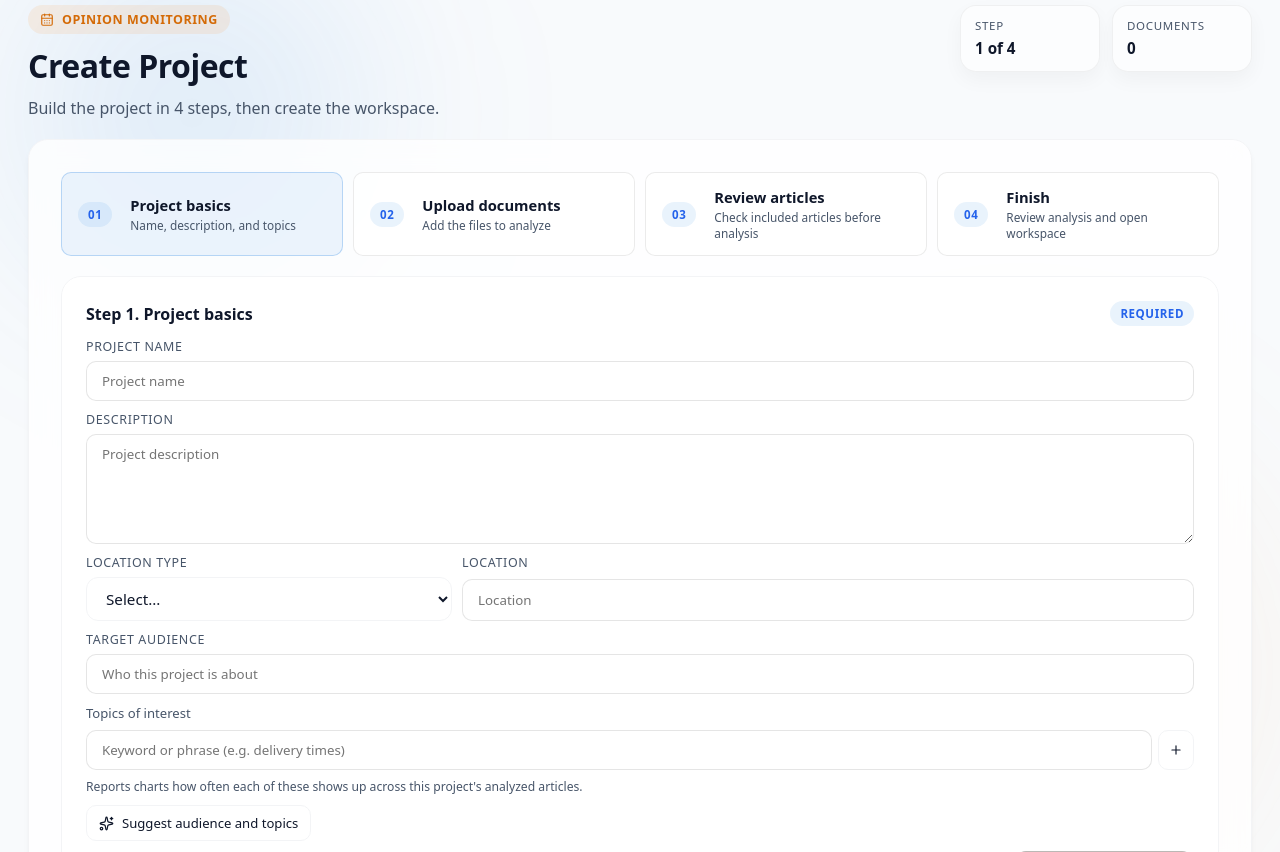
it: ProjectsPage create wizard › advances to the upload step once a project is created
Type "New Study" into the field with placeholder "Project name" at (640, 381), box [86,361,1194,401]
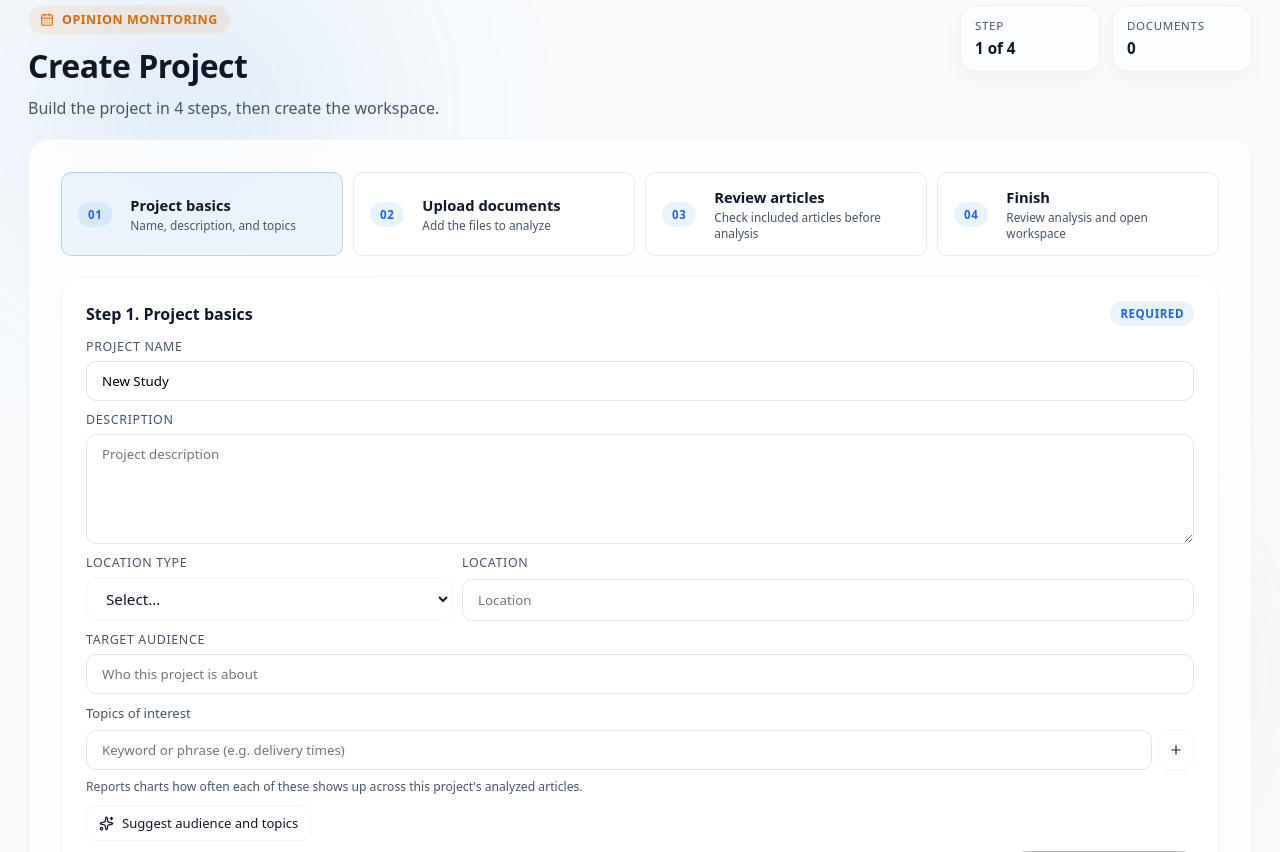
Type "Some description" into the text box with placeholder "Project description" at (640, 489), box [86,434,1194,544]
(page scrolled)
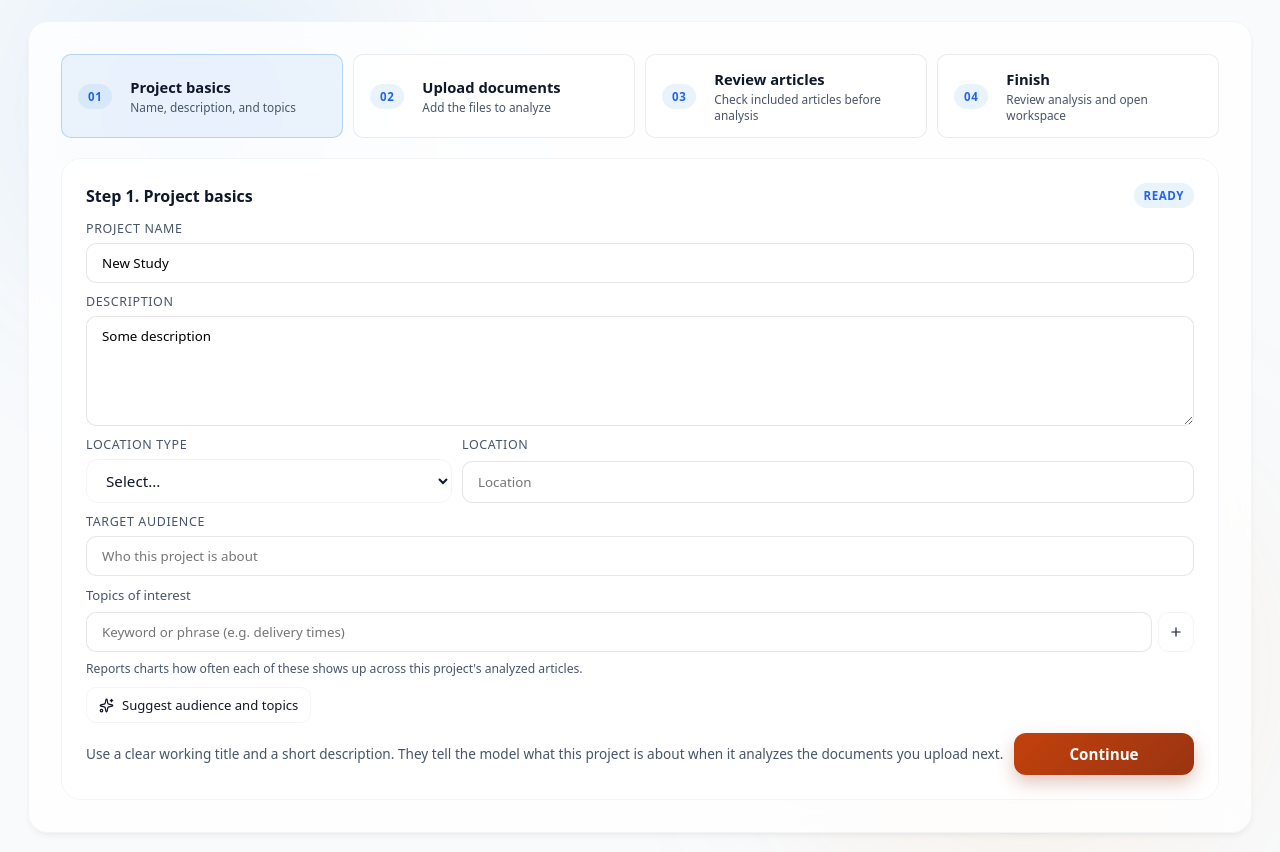
Click the button "Continue" at (1104, 754), box [1014,733,1194,775]
(page scrolled)
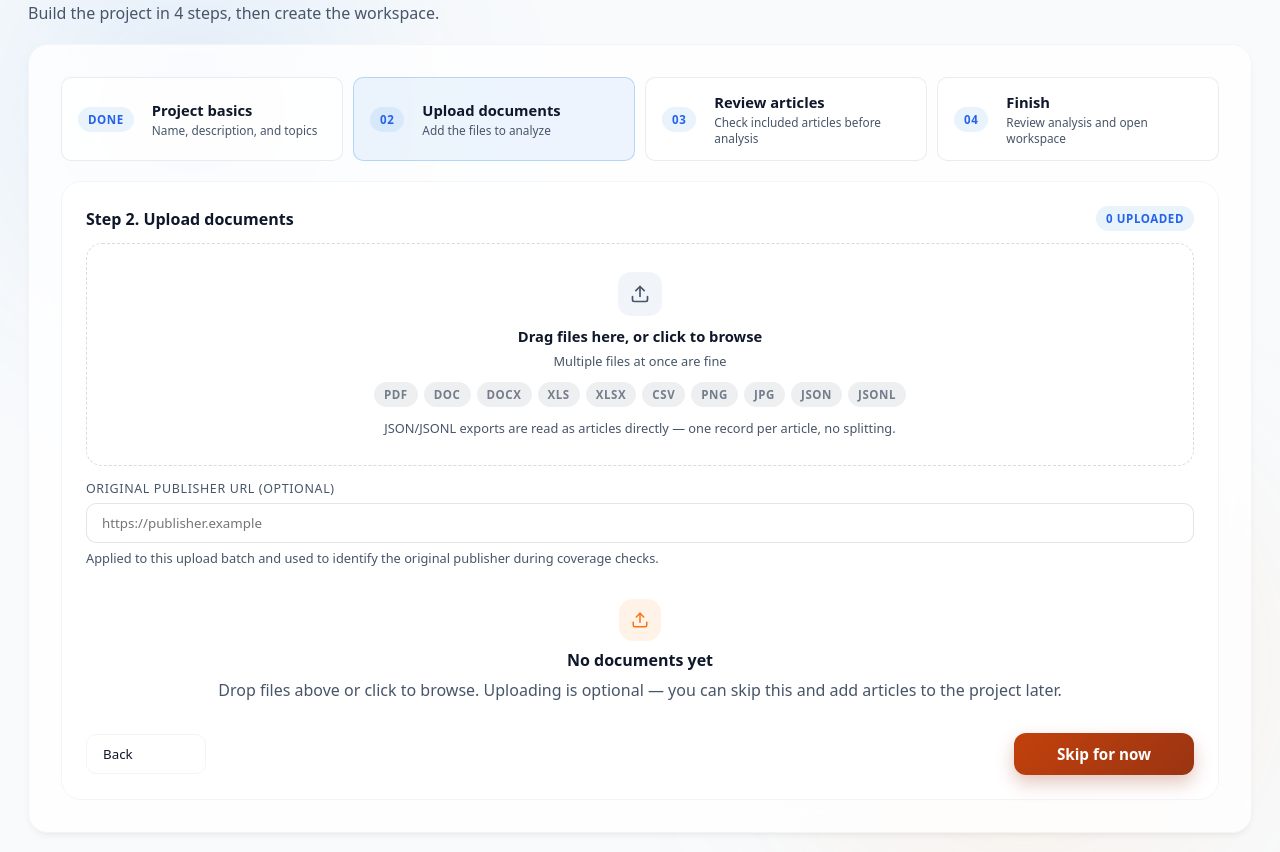
Expected: the text "Step 2. Upload documents" is shown, [86,208,294,230]
